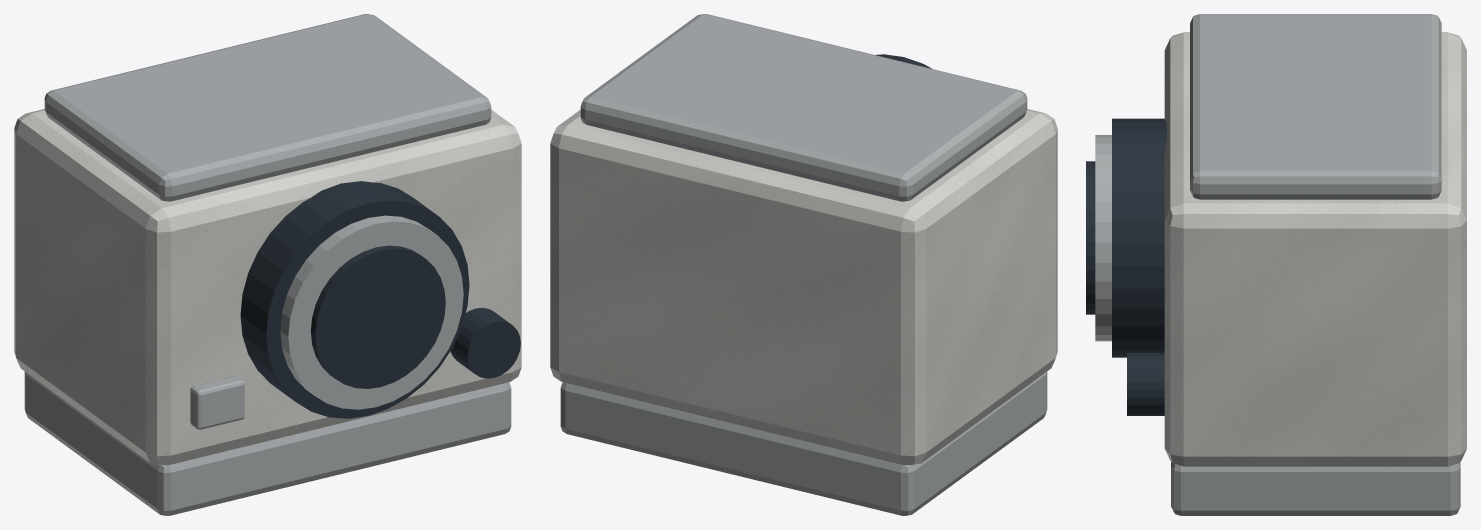
Rendered from rover_mast_laser_camera.glb.
The picture shows the model from 3 angles, left to right: view 1: azimuth 30°, elevation 25°; view 2: azimuth 150°, elevation 25°; view 3: azimuth 270°, elevation 25°; orthographic projection. The views are drawn at different scales.
Parts seen in each view (by area): view 1: Mast_Instrument, Mast_Cover, Mast_Adapter, Remote_OpticGlass, Remote_OpticHousing, Remote_OpticRim, Microphone_Pod, Laser_Window; view 2: Mast_Instrument, Mast_Cover, Mast_Adapter; view 3: Mast_Instrument, Mast_Cover, Mast_Adapter, Remote_OpticHousing, Remote_OpticRim, Microphone_Pod, Remote_OpticGlass.
Boxes of the visible parts, <box> form: Mast_Instrument: <box>14,109,521,465</box>; Mast_Cover: <box>44,14,491,201</box>; Mast_Adapter: <box>24,371,511,515</box>; Remote_OpticGlass: <box>310,245,445,388</box>; Remote_OpticHousing: <box>240,181,469,418</box>; Remote_OpticRim: <box>280,215,463,409</box>; Microphone_Pod: <box>450,307,520,378</box>; Laser_Window: <box>190,376,244,429</box>; Mast_Instrument: <box>550,109,1057,465</box>; Mast_Cover: <box>580,14,1027,201</box>; Mast_Adapter: <box>560,371,1047,515</box>; Mast_Instrument: <box>1164,32,1466,466</box>; Mast_Cover: <box>1190,14,1441,199</box>; Mast_Adapter: <box>1171,462,1460,515</box>; Remote_OpticHousing: <box>1112,118,1167,357</box>; Remote_OpticRim: <box>1095,135,1111,341</box>; Microphone_Pod: <box>1127,353,1164,415</box>; Remote_OpticGlass: <box>1086,161,1095,314</box>.
Size of the model in its own units: 0.35 by 0.2975 by 0.3025.
Materials: 3 (1 with a texture image).
